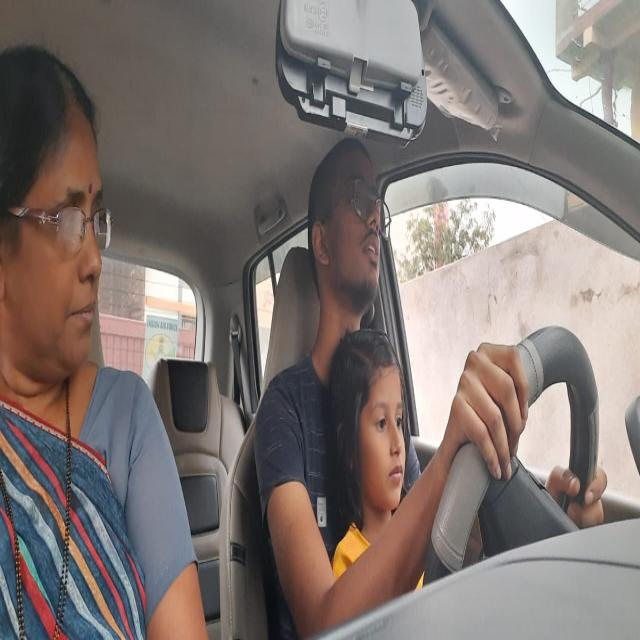child: (330, 321, 411, 522)
person: (0, 44, 110, 374), (307, 138, 391, 313)
